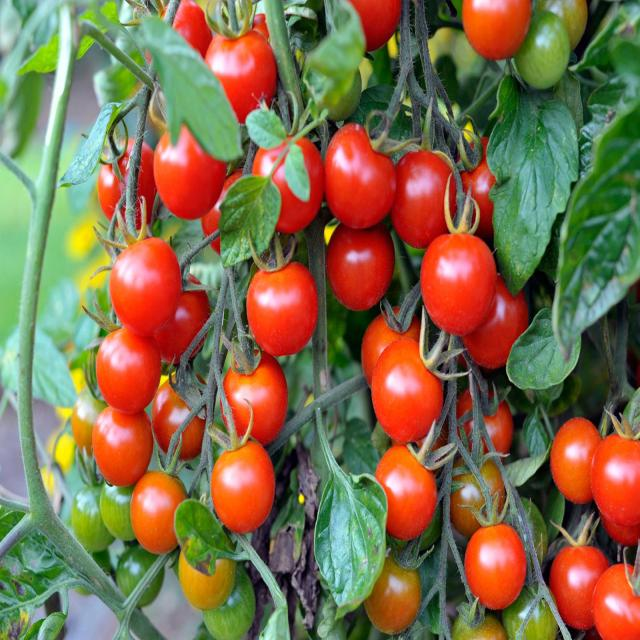fine: (364, 550, 424, 632), (179, 536, 236, 609)
overripe: (99, 236, 189, 339), (322, 122, 397, 227), (421, 229, 497, 332), (370, 341, 443, 443), (250, 133, 324, 233), (247, 256, 318, 359), (155, 118, 225, 222), (396, 137, 457, 244), (220, 348, 288, 443), (372, 442, 437, 541), (91, 329, 162, 414), (214, 438, 275, 533), (328, 223, 393, 312), (463, 520, 526, 610), (154, 373, 216, 461), (549, 538, 608, 629), (90, 408, 154, 486), (133, 471, 192, 550), (593, 427, 640, 525), (550, 415, 596, 503), (592, 559, 640, 640)
unripe: (72, 485, 115, 556), (98, 480, 137, 544)
